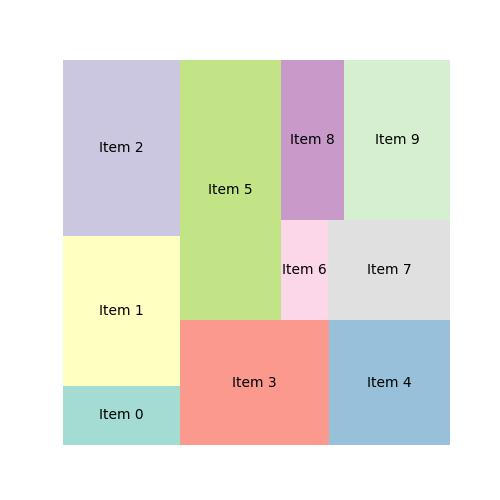rectangle: (181, 59, 281, 320), (64, 60, 181, 236), (180, 319, 329, 445), (64, 234, 181, 385), (344, 59, 449, 220), (329, 319, 450, 445), (328, 219, 449, 320), (281, 59, 344, 220), (64, 385, 180, 445), (280, 220, 328, 319)
